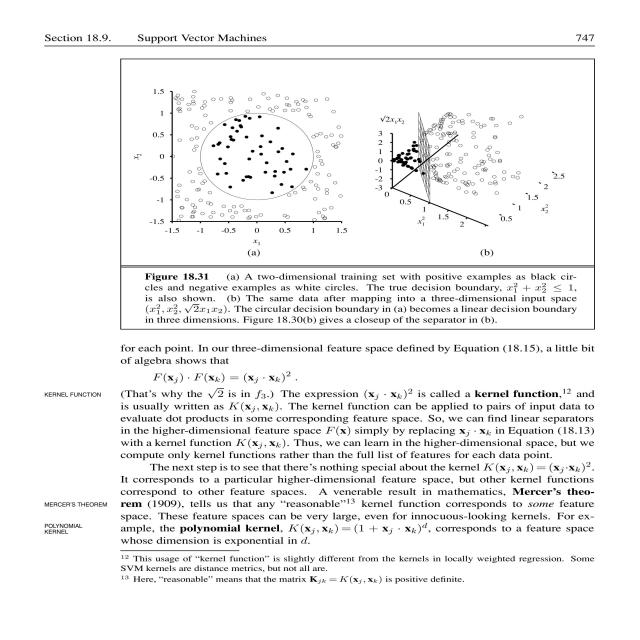diagram: (127, 63, 590, 328)
